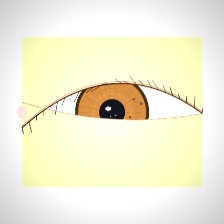pinguecula_lesion: (145, 99, 196, 140)
